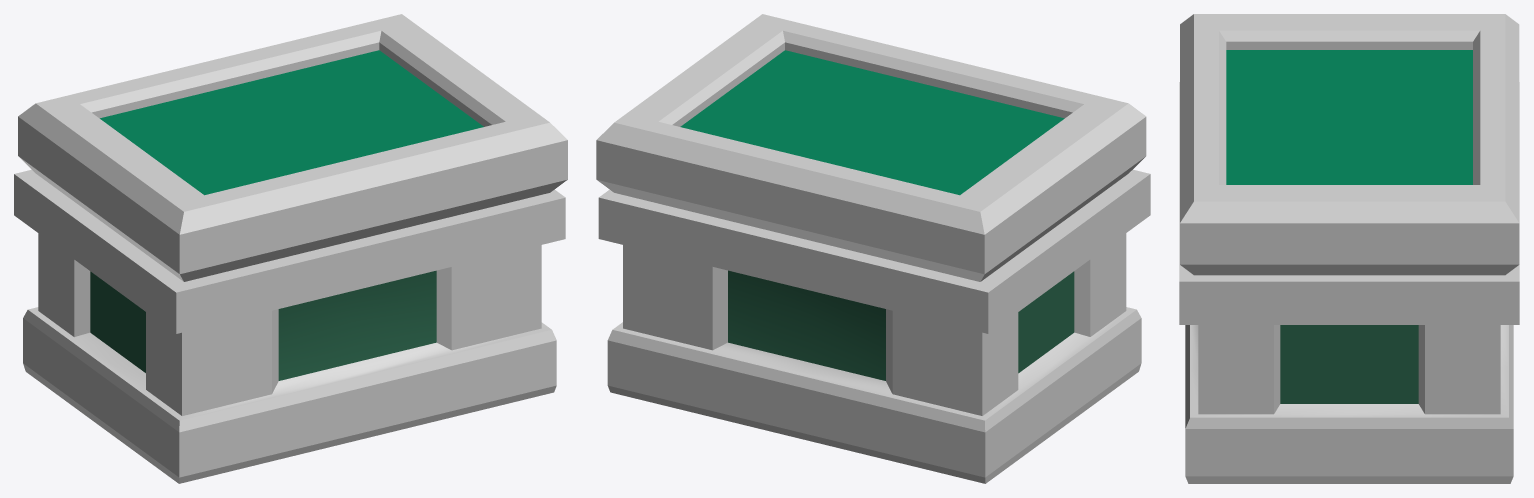
Rendered from Big_chest.fbx.
3 renders of one model, left to right at view 1: azimuth 30°, elevation 25°; view 2: azimuth 150°, elevation 25°; view 3: azimuth 270°, elevation 25°, orthographic. The views are drawn at different scales.
Parts seen in each view (by area): view 1: polySurface2445, polySurface2446; view 2: polySurface2445, polySurface2446; view 3: polySurface2446, polySurface2445.
Part boxes in pixels (box(x1,y1,x2,y2)): polySurface2445: box(14, 169, 565, 483); polySurface2446: box(18, 14, 567, 281); polySurface2445: box(598, 169, 1150, 483); polySurface2446: box(596, 14, 1146, 281); polySurface2446: box(1180, 14, 1519, 275); polySurface2445: box(1179, 82, 1519, 483).
Bounding box in the file's own units: 1.68 × 1.1 × 1.2.
